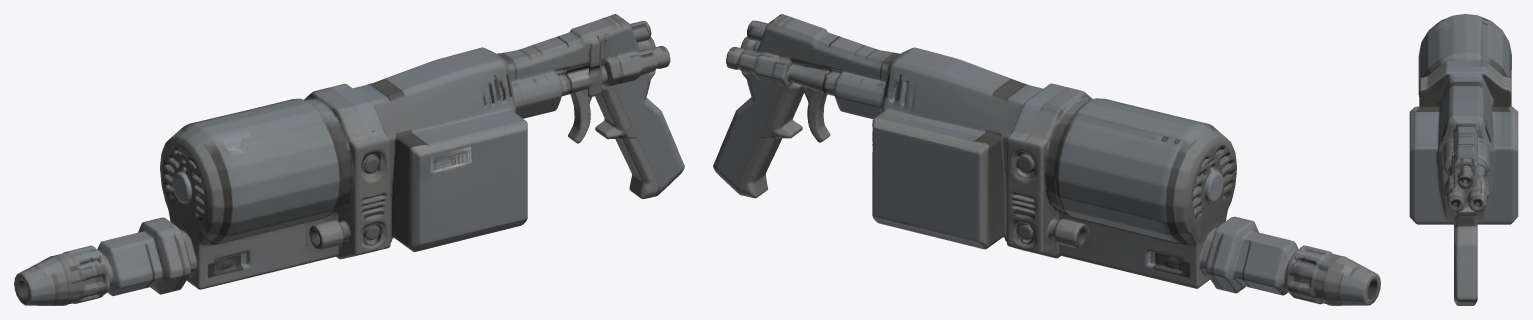
The model's file is paint-sprayer-model.fbx.
3 views of the same model, side by side, from view 1: azimuth 30°, elevation 25°; view 2: azimuth 150°, elevation 25°; view 3: azimuth 270°, elevation 25° (orthographic). The views are drawn at different scales.
Visible parts, largest first — view 1: tripo_node_37d03637; view 2: tripo_node_37d03637; view 3: tripo_node_37d03637.
Boxes of the visible parts, left/top/right/bottom form: tripo_node_37d03637: left=14, top=14, right=684, bottom=305; tripo_node_37d03637: left=713, top=14, right=1380, bottom=305; tripo_node_37d03637: left=1409, top=14, right=1518, bottom=305.
Bounding box in the file's own units: 1 × 0.2651 × 0.1931.
